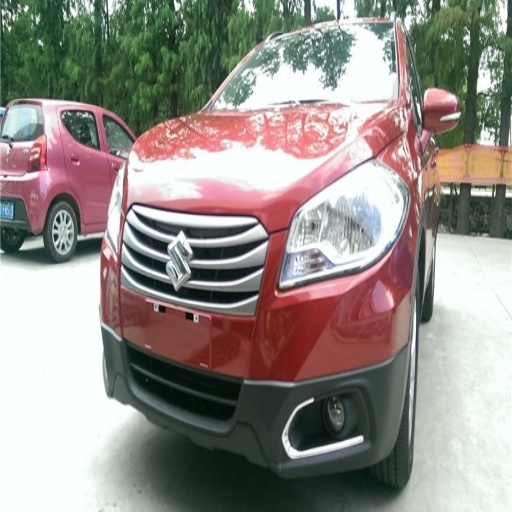back_bumper: (221, 429, 290, 471)
back_right_door: (62, 108, 105, 210)
front_bumper: (105, 226, 417, 476)
front_left_light: (277, 144, 411, 295)
hood: (126, 107, 399, 229), (133, 223, 235, 303)
